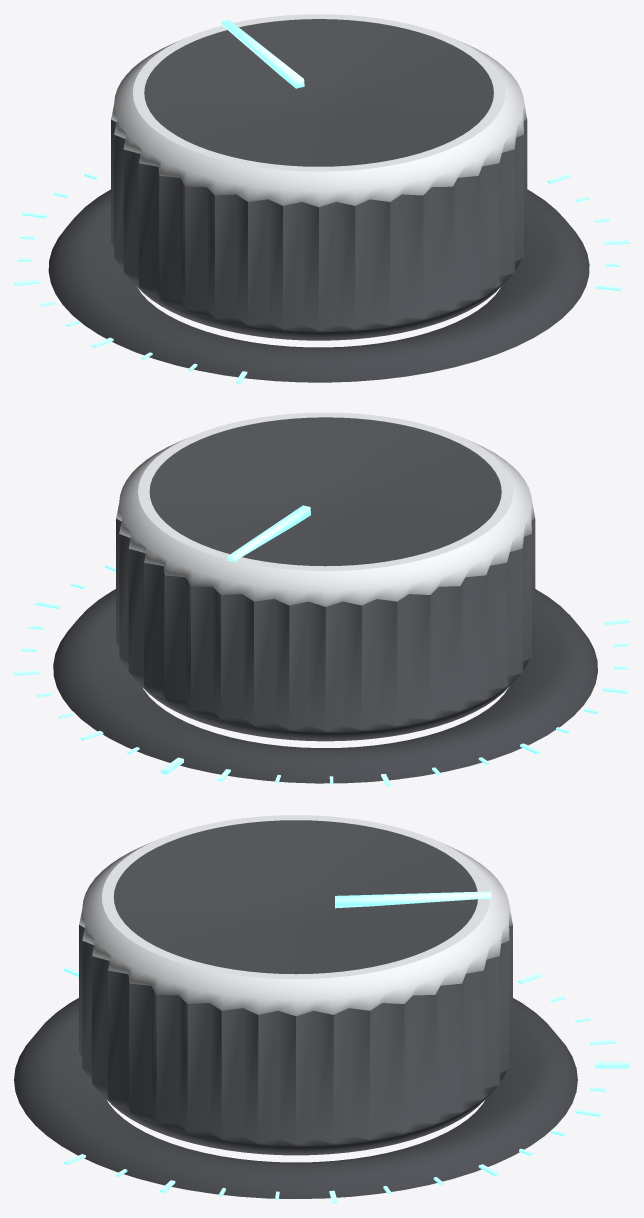
File: knob.glb
The picture shows the model from 3 angles, top to bottom: view 1: azimuth 30°, elevation 25°; view 2: azimuth 150°, elevation 25°; view 3: azimuth 270°, elevation 25°; orthographic projection. The views are drawn at different scales.
Parts seen in each view (by area): view 1: Knob_Rotor, Knob_Base, Knob_Ticks, Knob_Indicator; view 2: Knob_Rotor, Knob_Base, Knob_Ticks, Knob_Indicator; view 3: Knob_Rotor, Knob_Base, Knob_Ticks, Knob_Indicator.
Boxes of the visible parts, x1,y1,x2,y2 form: Knob_Rotor: [111, 14, 527, 340]; Knob_Base: [48, 189, 589, 382]; Knob_Ticks: [14, 173, 629, 383]; Knob_Indicator: [221, 20, 304, 88]; Knob_Rotor: [116, 412, 535, 741]; Knob_Base: [53, 589, 597, 783]; Knob_Ticks: [14, 564, 629, 786]; Knob_Indicator: [227, 505, 310, 562]; Knob_Rotor: [79, 815, 512, 1155]; Knob_Base: [14, 998, 577, 1198]; Knob_Ticks: [64, 967, 629, 1203]; Knob_Indicator: [335, 891, 491, 908].
Bounding box in the file's own units: 2.95 × 0.95 × 2.84.
